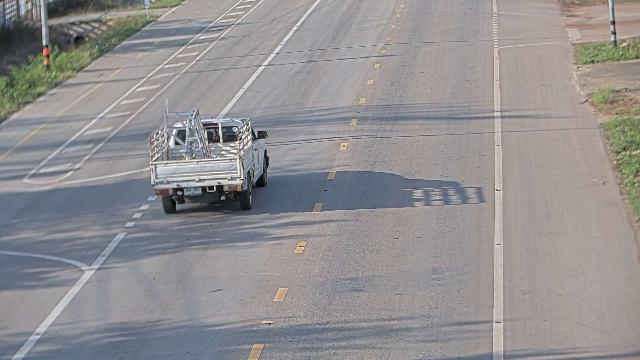pickup-truck: (148, 98, 270, 214)
